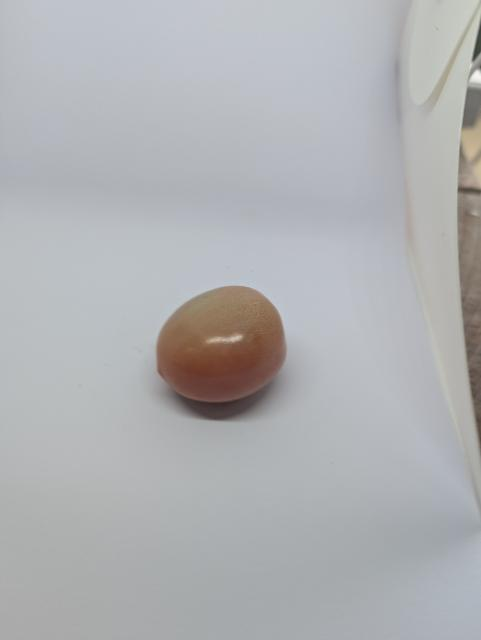turning: (152, 275, 297, 416)
